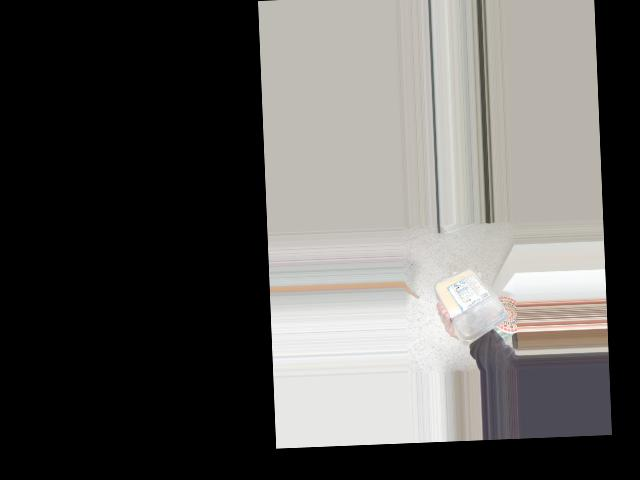cheese: (438, 264, 513, 328)
